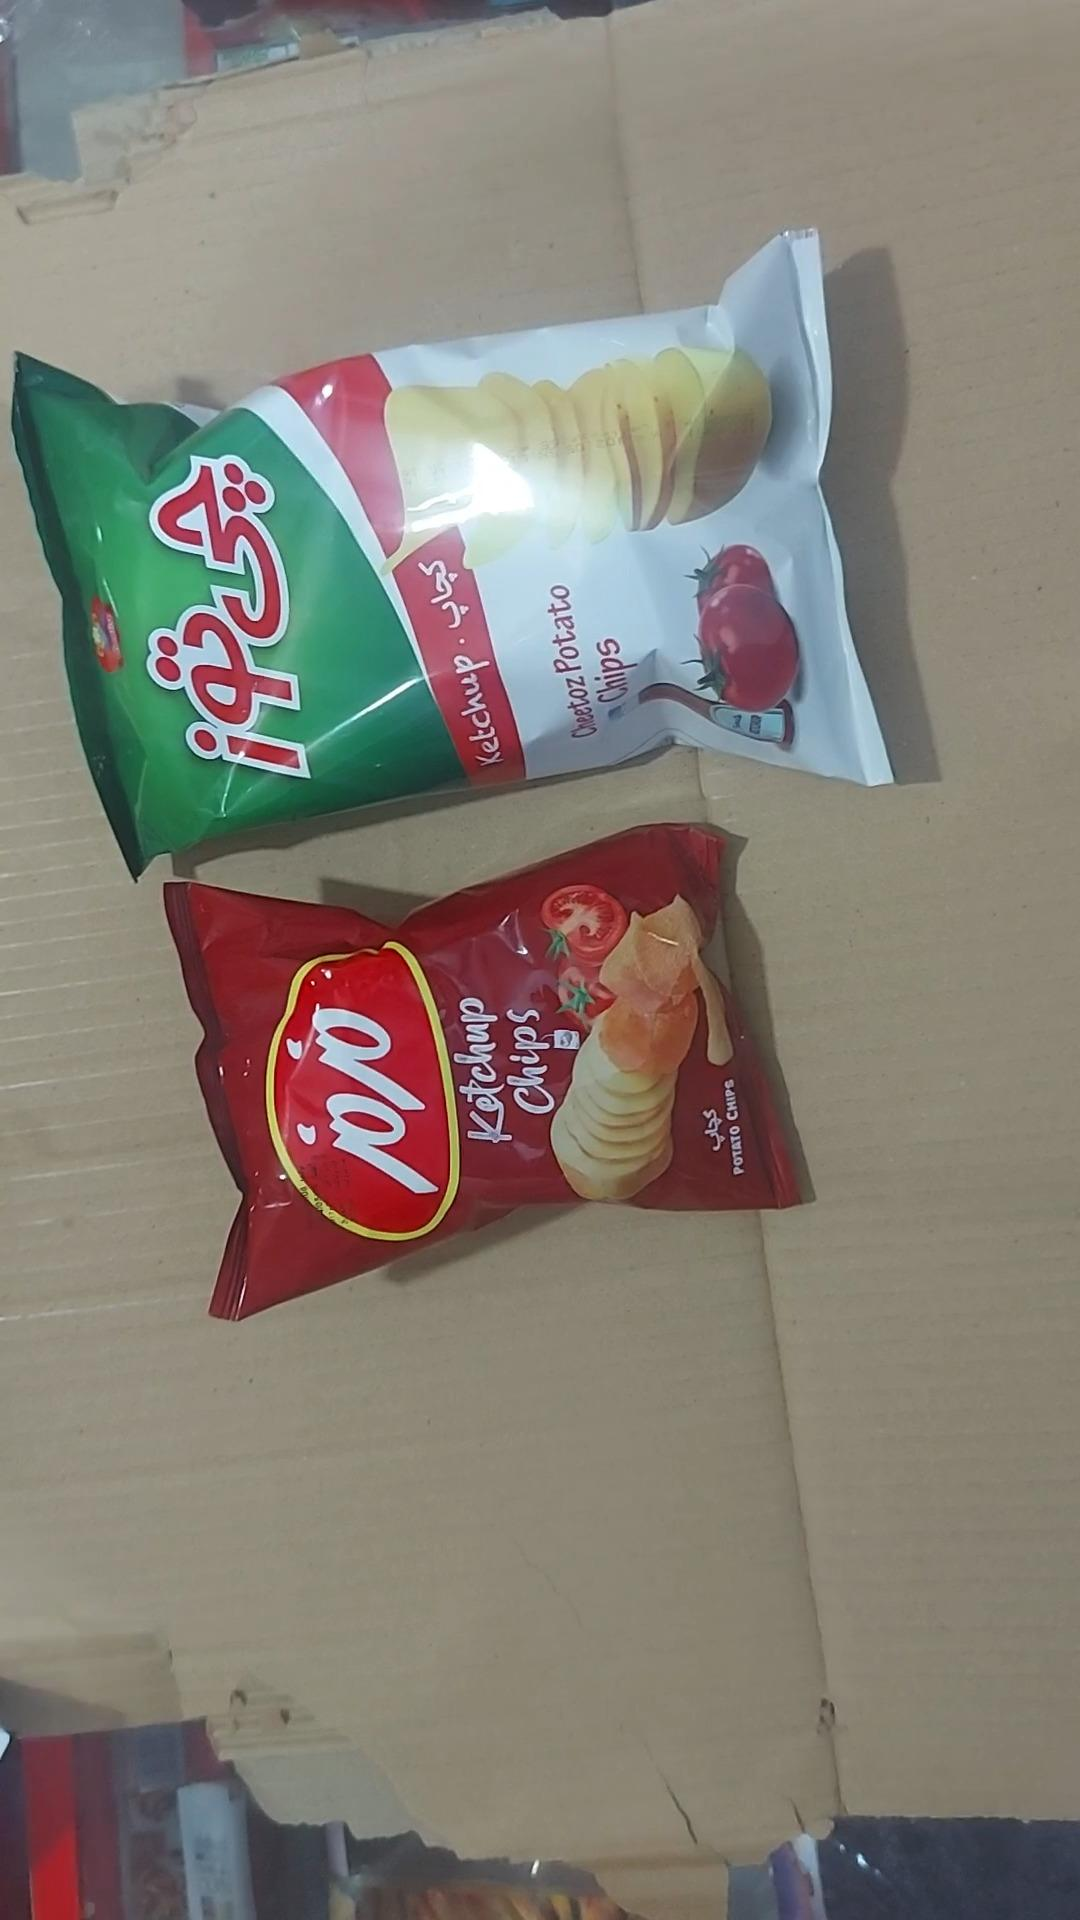Cheetoz ketchup chips: (11, 233, 891, 877)
Maz Maz ketchup chips: (166, 825, 799, 1319)
